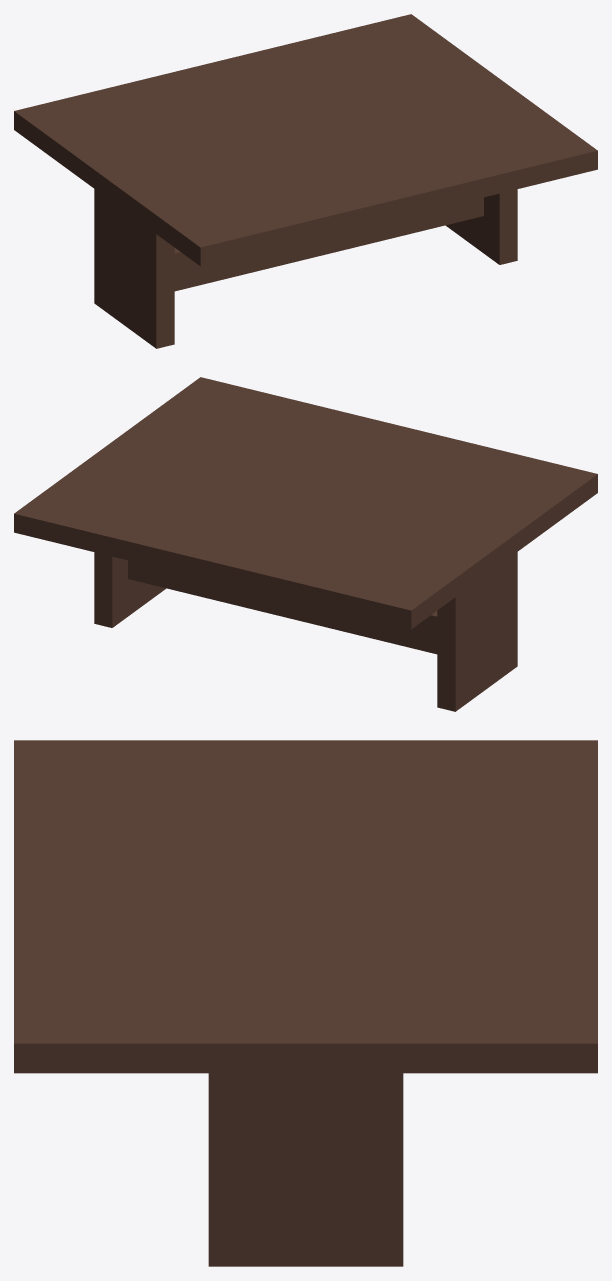
Rendered from canteen_table.fbx.
3 views of the same model, one above another, from view 1: azimuth 30°, elevation 25°; view 2: azimuth 150°, elevation 25°; view 3: azimuth 270°, elevation 25° (orthographic). The views are drawn at different scales.
Visible parts, largest first — view 1: mergedBlocks; view 2: mergedBlocks; view 3: mergedBlocks.
Boxes of the visible parts, x1,y1,x2,y2 form: mergedBlocks: [14, 14, 597, 348]; mergedBlocks: [14, 377, 597, 711]; mergedBlocks: [14, 740, 597, 1266].
Bounding box in the file's own units: 11 × 4 × 8.95.
